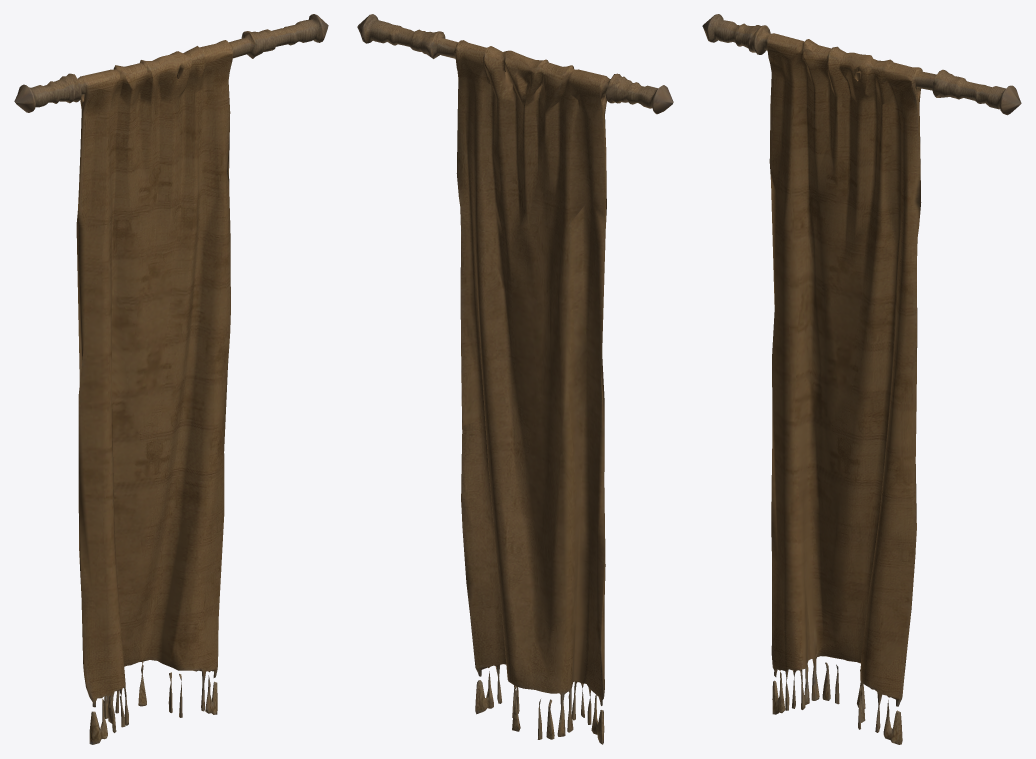
The model's file is banner.glb.
3 renders of one model, left to right at view 1: azimuth 30°, elevation 25°; view 2: azimuth 150°, elevation 25°; view 3: azimuth 330°, elevation 25°, orthographic.
Bounding box in the file's own units: 0.9286 × 1.9 × 0.1342.
1 material, 1 textured.
